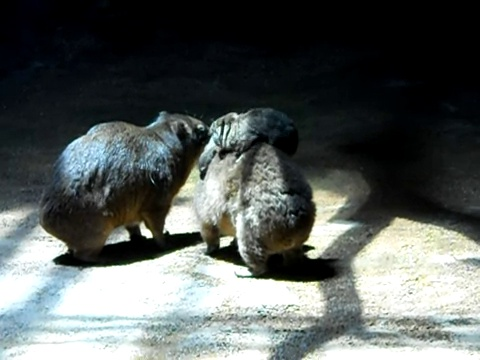Rock Hyrex: (32, 106, 217, 254), (194, 118, 316, 267)
